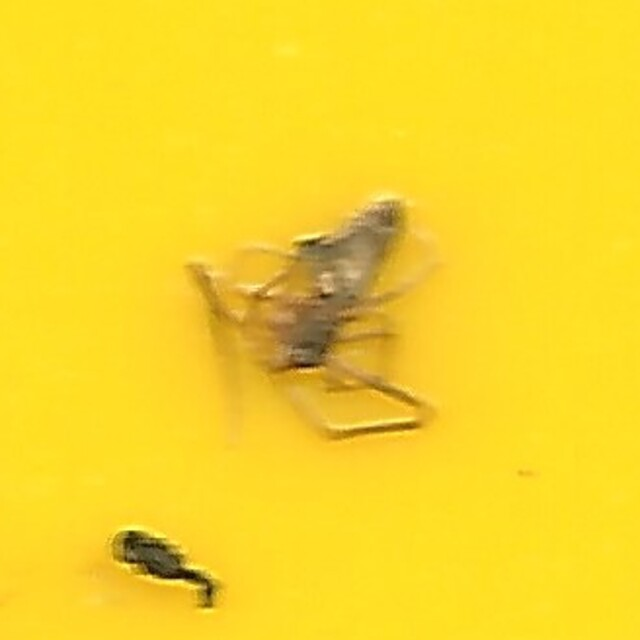Araneae: (195, 186, 445, 454)
